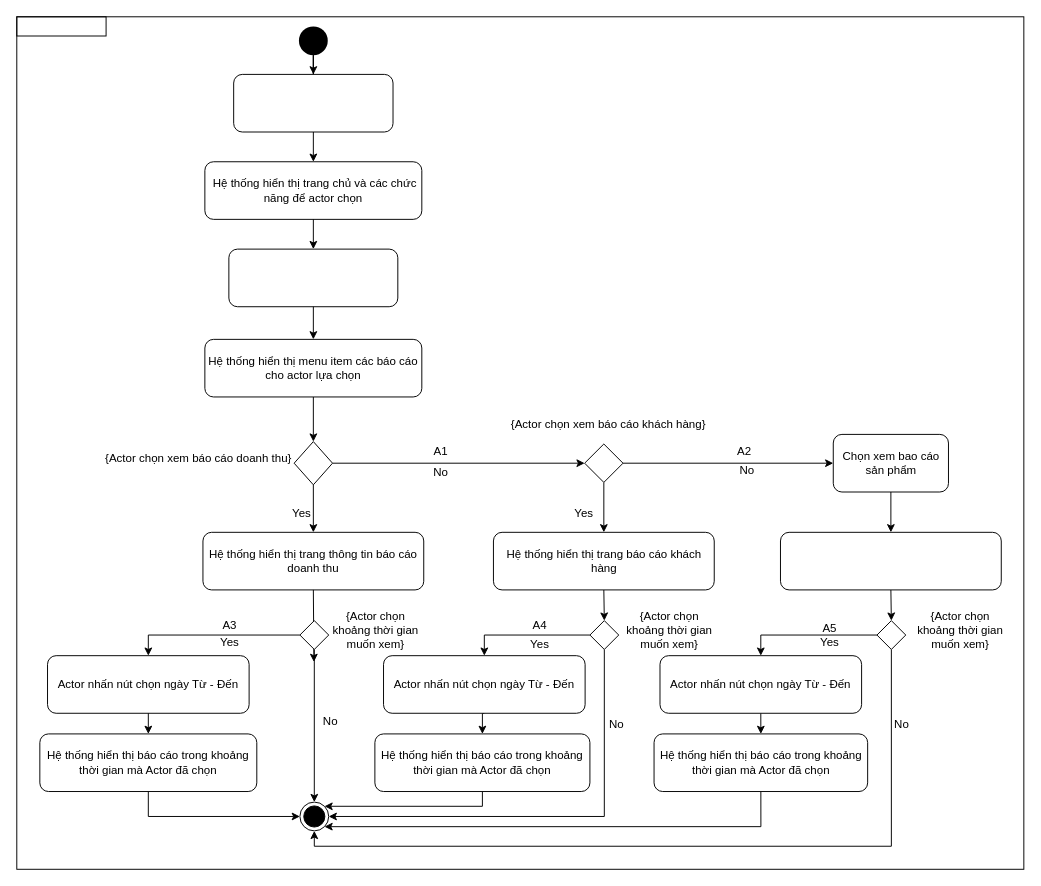
This 1041x886 diagram has some shape labels left out. The shapes that lost their labels are listed below. From the top down, each one's centre as x and y in pixels, then its label:
At [61,26]: "Activity Diagram".
At [313,102]: "Actor đăng nhập vào hệ thống".
At [313,277]: "Actor chọn chức năng báo cáo".
At [890,560]: "Hệ thống hiển thị trang báo cáo sản phẩm".
